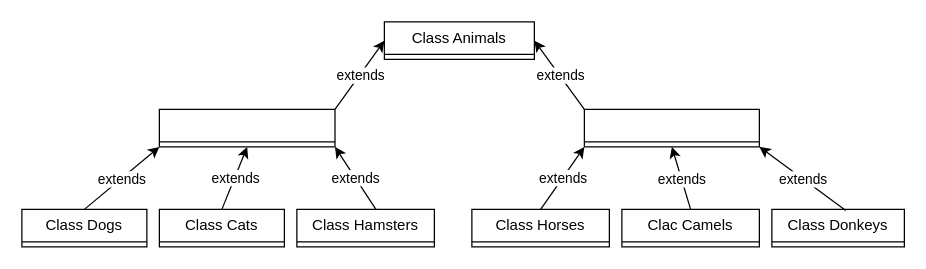
Image size: 926x269. Some labels were removed from this diagram. The centre of each missing label's shape, as x and y in pixels:
"Class PackAnimals" goes at point (671, 127).
"Class Pets" goes at point (246, 127).
